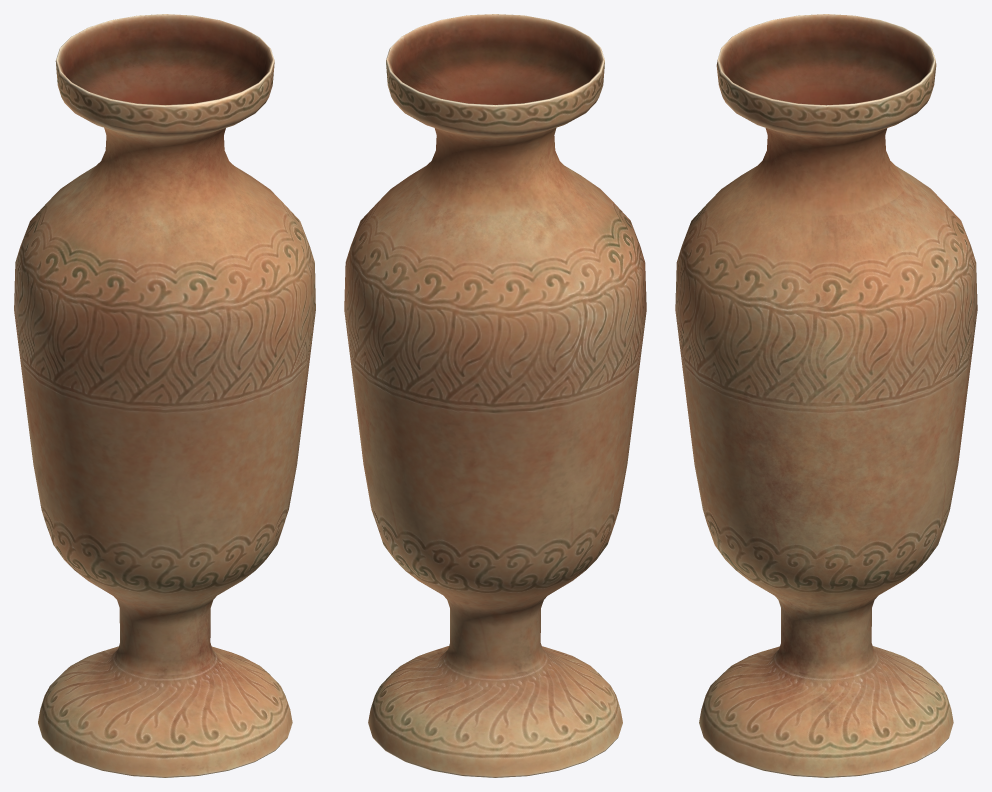
Rendered from brass_vase_03.glb.
3 renders of one model, left to right at view 1: azimuth 30°, elevation 25°; view 2: azimuth 150°, elevation 25°; view 3: azimuth 270°, elevation 25°, orthographic.
Visible parts, largest first — view 1: brass_vase_03; view 2: brass_vase_03; view 3: brass_vase_03.
Boxes of the visible parts, x1,y1,x2,y2 form: brass_vase_03: [14, 14, 315, 777]; brass_vase_03: [344, 14, 646, 777]; brass_vase_03: [675, 14, 977, 777].
Size of the model in its own units: 0.0825 by 0.2004 by 0.0825.
Materials: 1 (1 with a texture image).
